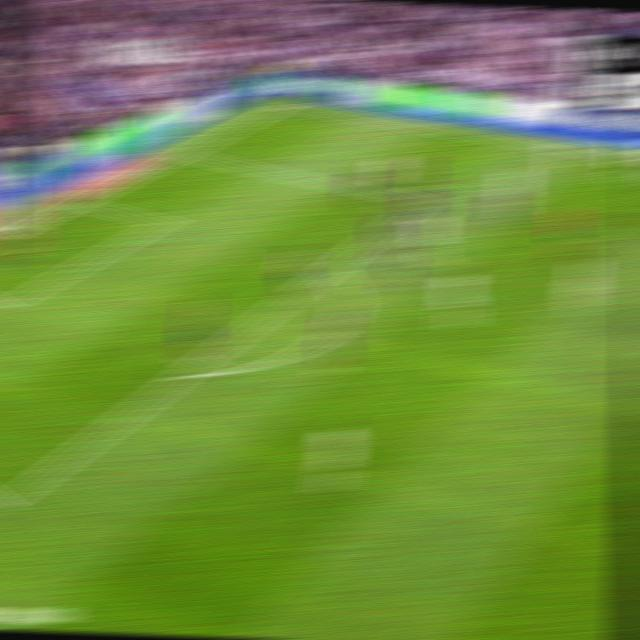bigarea_top_outter: (173, 146, 197, 158)
bottom_arc_area_intersection: (170, 365, 197, 384)
corner: (273, 97, 300, 109)
smallarea_top_inner: (150, 215, 173, 228)
top_arc_area_intersection: (315, 261, 342, 278)
